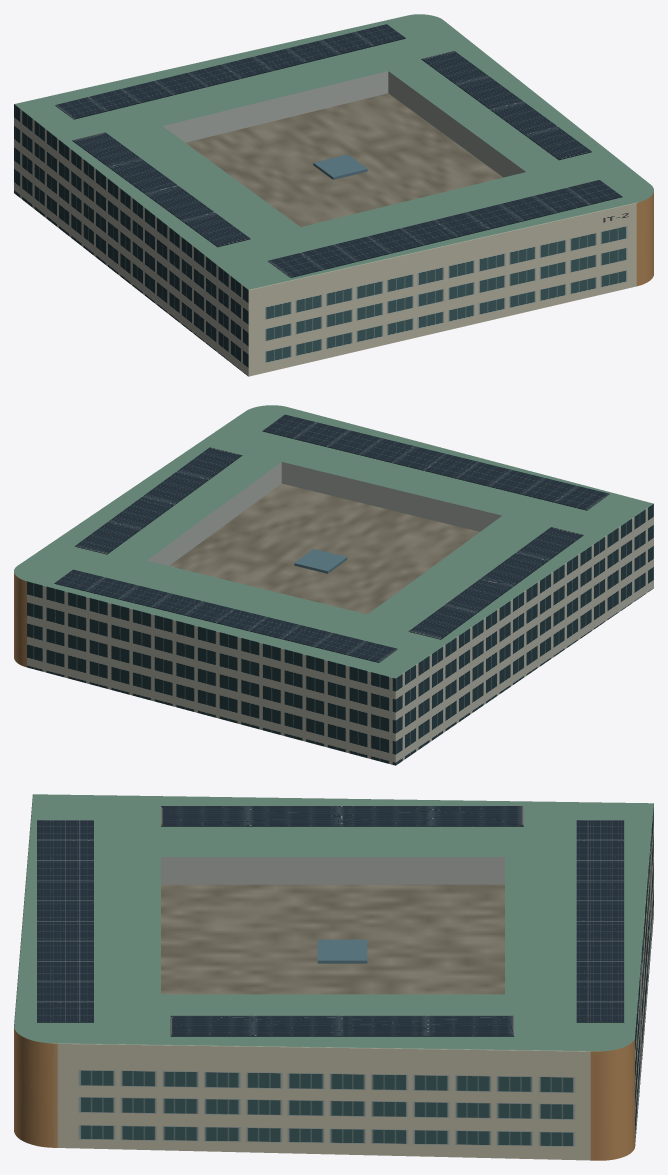
File: fragments.glb
The picture shows the model from 3 angles, top to bottom: view 1: azimuth 30°, elevation 25°; view 2: azimuth 150°, elevation 25°; view 3: azimuth 270°, elevation 25°; orthographic projection. The views are drawn at different scales.
Visible parts, largest first — view 1: SM_IT2R8_Fragment_018, SM_IT2R8_Fragment_005, SM_IT2R8_Fragment_017, SM_IT2R8_Fragment_003, SM_IT2R8_Fragment_033, SM_IT2R8_Fragment_055, SM_IT2R8_Fragment_026, SM_IT2R8_Fragment_037, SM_IT2R8_Fragment_045, SM_IT2R8_Fragment_028, SM_IT2R8_Fragment_014, SM_IT2R8_Fragment_024 (+35 smaller); view 2: SM_IT2R8_Fragment_001, SM_IT2R8_Fragment_057, SM_IT2R8_Fragment_003, SM_IT2R8_Fragment_000, SM_IT2R8_Fragment_011, SM_IT2R8_Fragment_050, SM_IT2R8_Fragment_026, SM_IT2R8_Fragment_051, SM_IT2R8_Fragment_058, SM_IT2R8_Fragment_014, SM_IT2R8_Fragment_061, SM_IT2R8_Fragment_041 (+36 smaller); view 3: SM_IT2R8_Fragment_027, SM_IT2R8_Fragment_046, SM_IT2R8_Fragment_008, SM_IT2R8_Fragment_062, SM_IT2R8_Fragment_000, SM_IT2R8_Fragment_021, SM_IT2R8_Fragment_047, SM_IT2R8_Fragment_056, SM_IT2R8_Fragment_026, SM_IT2R8_Fragment_034, SM_IT2R8_Fragment_052, SM_IT2R8_Fragment_017 (+33 smaller).
Boxes of the visible parts, x1,y1,x2,y2 form: SM_IT2R8_Fragment_018: (228,253,336,365); SM_IT2R8_Fragment_005: (356,227,464,325); SM_IT2R8_Fragment_017: (433,182,559,278); SM_IT2R8_Fragment_003: (174,231,274,343); SM_IT2R8_Fragment_033: (418,250,539,336); SM_IT2R8_Fragment_055: (159,80,281,149); SM_IT2R8_Fragment_026: (138,186,268,258); SM_IT2R8_Fragment_037: (272,238,374,326); SM_IT2R8_Fragment_045: (510,189,604,305); SM_IT2R8_Fragment_028: (274,74,371,146); SM_IT2R8_Fragment_014: (422,113,537,180); SM_IT2R8_Fragment_024: (567,214,653,302); SM_IT2R8_Fragment_001: (291,622,380,732); SM_IT2R8_Fragment_057: (192,610,327,687); SM_IT2R8_Fragment_003: (535,513,633,634); SM_IT2R8_Fragment_000: (192,430,323,500); SM_IT2R8_Fragment_011: (116,575,219,654); SM_IT2R8_Fragment_050: (331,467,466,525); SM_IT2R8_Fragment_026: (460,531,576,602); SM_IT2R8_Fragment_051: (367,634,451,711); SM_IT2R8_Fragment_058: (59,561,152,654); SM_IT2R8_Fragment_014: (182,471,275,539); SM_IT2R8_Fragment_061: (444,581,532,675); SM_IT2R8_Fragment_041: (197,668,296,737); SM_IT2R8_Fragment_027: (172,1015,323,1153); SM_IT2R8_Fragment_046: (14,1005,143,1131); SM_IT2R8_Fragment_008: (285,1072,436,1156); SM_IT2R8_Fragment_062: (357,837,521,920); SM_IT2R8_Fragment_000: (72,969,223,1100); SM_IT2R8_Fragment_021: (97,832,226,918); SM_IT2R8_Fragment_047: (483,1011,579,1104); SM_IT2R8_Fragment_056: (378,1027,486,1117); SM_IT2R8_Fragment_026: (181,797,344,853); SM_IT2R8_Fragment_034: (433,1089,549,1159); SM_IT2R8_Fragment_052: (215,851,349,926); SM_IT2R8_Fragment_017: (17,915,160,979).
Size of the model in its own units: 2.09 by 0.4233 by 2.2.
Materials: 8 (3 with a texture image).
